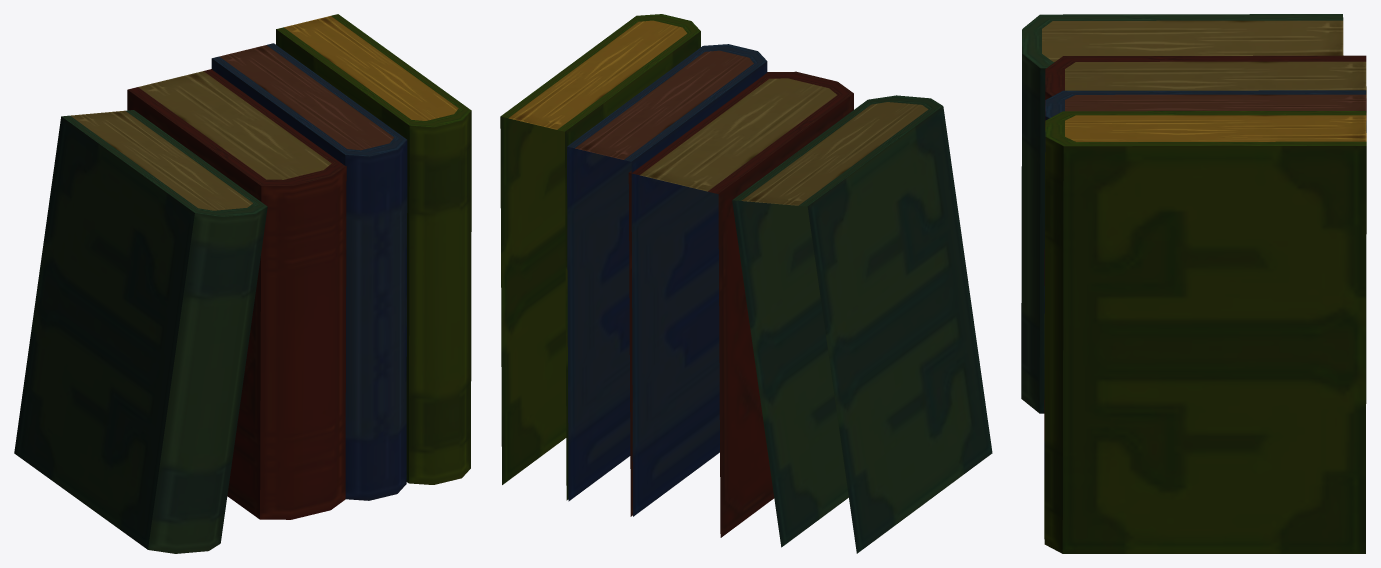
File: BookGroup Small 1.glb
3 views of the same model, side by side, from view 1: azimuth 30°, elevation 25°; view 2: azimuth 150°, elevation 25°; view 3: azimuth 270°, elevation 25° (orthographic). The views are drawn at different scales.
Parts seen in each view (by area): view 1: BookGroup_Small_1; view 2: BookGroup_Small_1; view 3: BookGroup_Small_1.
Boxes of the visible parts, x1,y1,x2,y2 form: BookGroup_Small_1: (14, 14, 471, 553); BookGroup_Small_1: (500, 14, 992, 553); BookGroup_Small_1: (1021, 14, 1366, 553).
Size of the model in its own units: 0.2893 by 0.2983 by 0.2256.
1 material, 1 textured.
